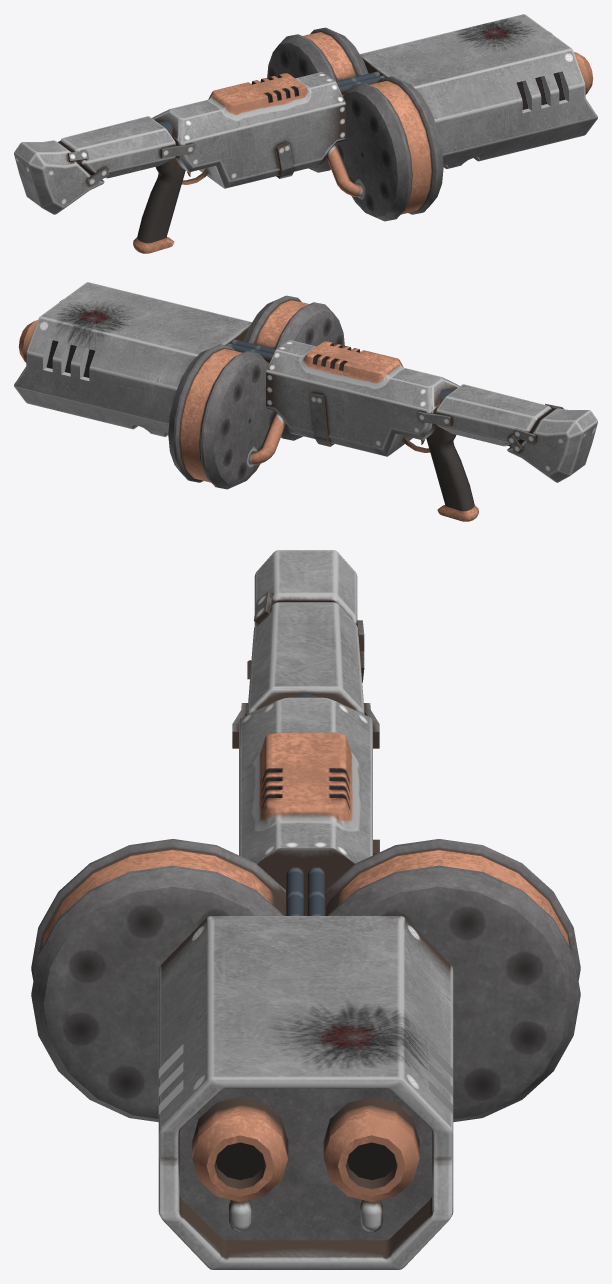
The model's file is shotgun.glb.
3 renders of one model, top to bottom at view 1: azimuth 30°, elevation 25°; view 2: azimuth 150°, elevation 25°; view 3: azimuth 270°, elevation 25°, orthographic. The views are drawn at different scales.
Parts seen in each view (by area): view 1: pCube47; view 2: pCube47; view 3: pCube47.
Part boxes in pixels (left/top/right/bottom): pCube47: left=14, top=14, right=597, bottom=253; pCube47: left=14, top=282, right=597, bottom=521; pCube47: left=31, top=550, right=580, bottom=1269.
Bounding box in the file's own units: 66.43 × 15.96 × 28.9.
1 material, 1 textured.
